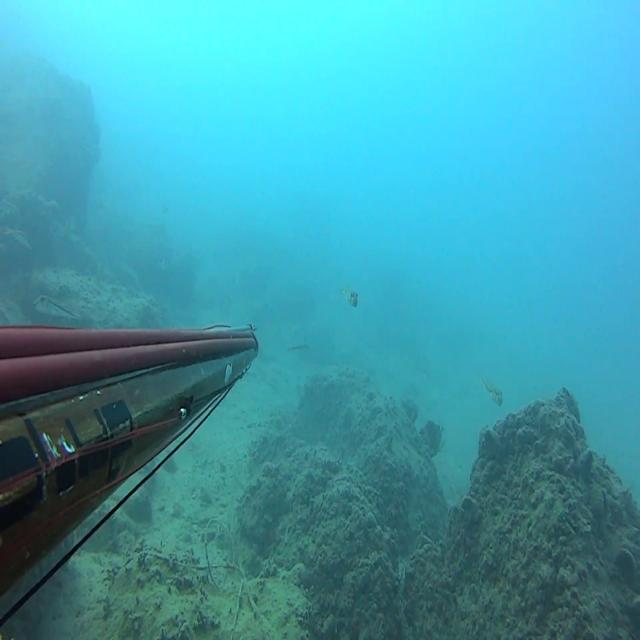Balon Baligi: (34, 294, 77, 320), (480, 376, 503, 407), (341, 284, 358, 307)
